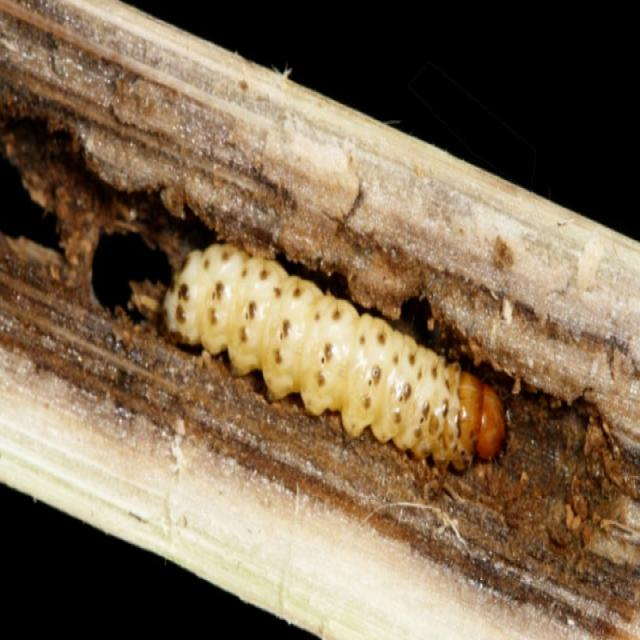cornborer-Larva-: (141, 229, 520, 497)
